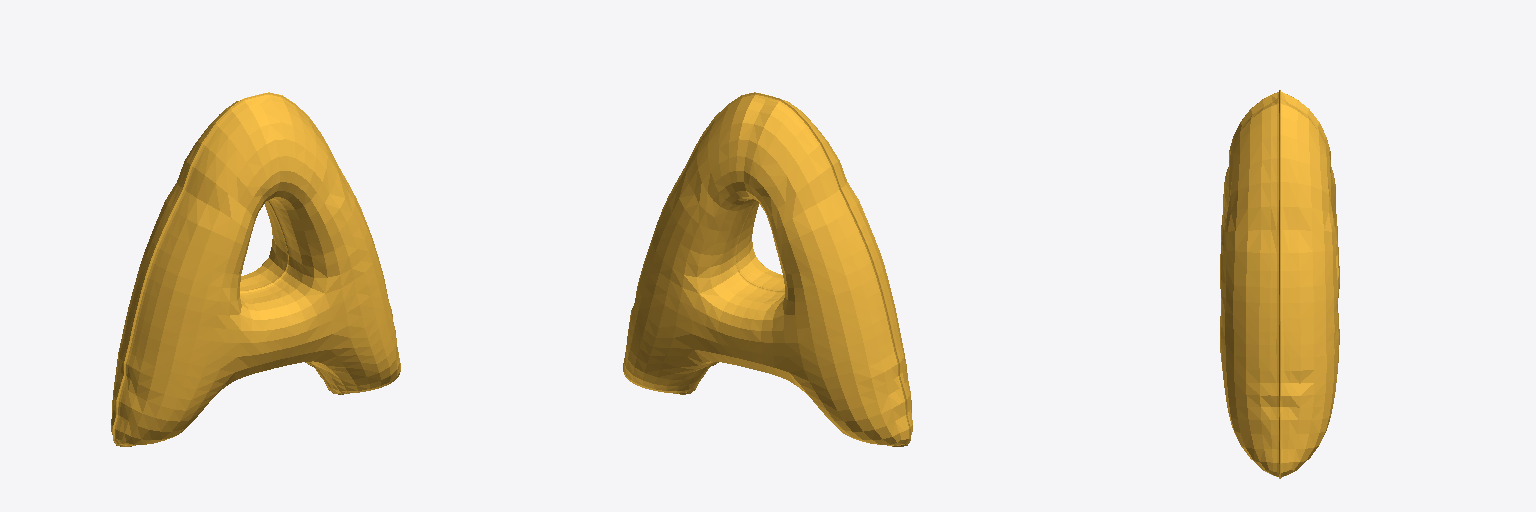
The model's file is foil_balloon_letter_gold_a_Y5_LL4_Q.obj.
3 views of the same model, side by side, from view 1: azimuth 30°, elevation 25°; view 2: azimuth 150°, elevation 25°; view 3: azimuth 270°, elevation 25° (orthographic).
Visible parts, largest first — view 1: Letter_A_low; view 2: Letter_A_low; view 3: Letter_A_low.
Boxes of the visible parts, x1,y1,x2,y2 form: Letter_A_low: [111, 92, 400, 446]; Letter_A_low: [623, 92, 912, 446]; Letter_A_low: [1220, 90, 1339, 478].
Bounding box in the file's own units: 20.93 × 22.38 × 7.61.